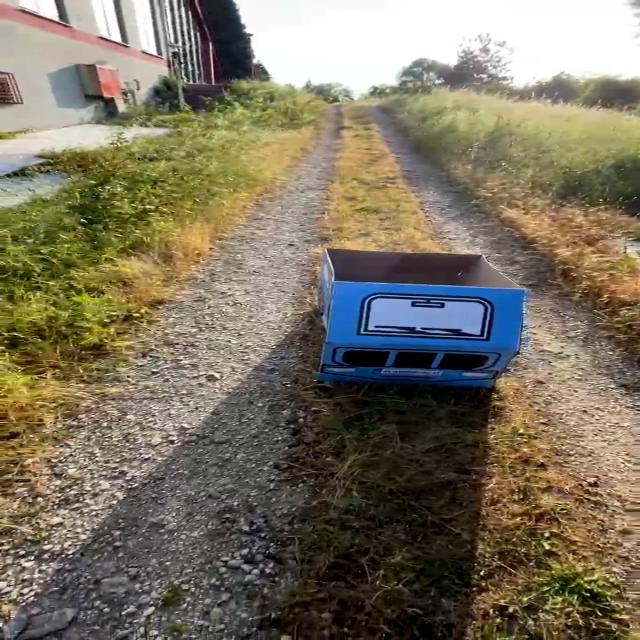blue_car: (280, 231, 555, 417)
